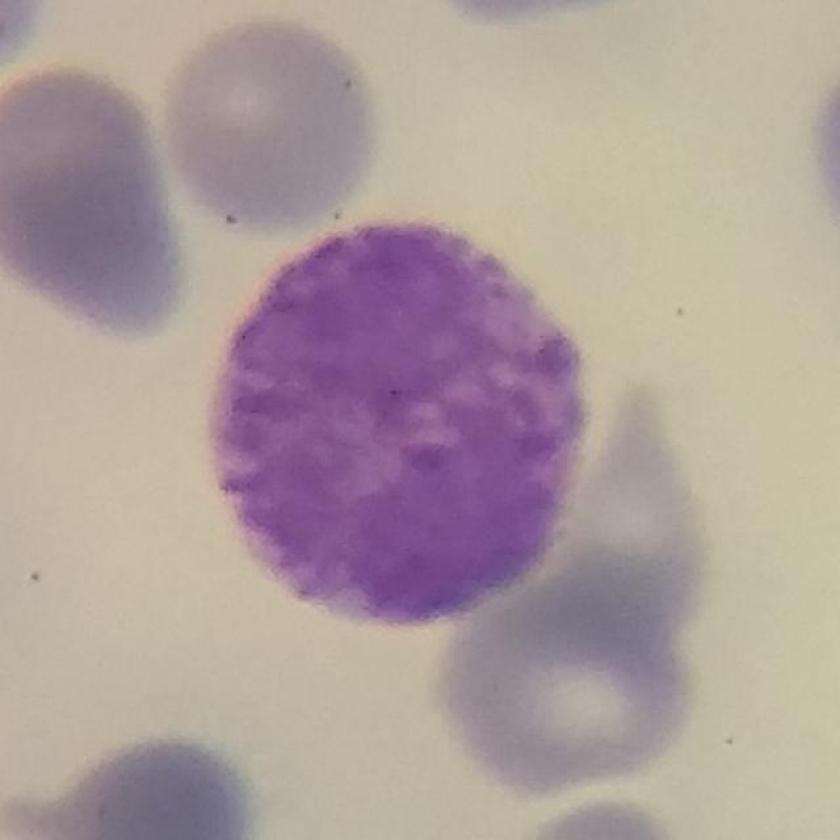basophil: (204, 201, 597, 634)
